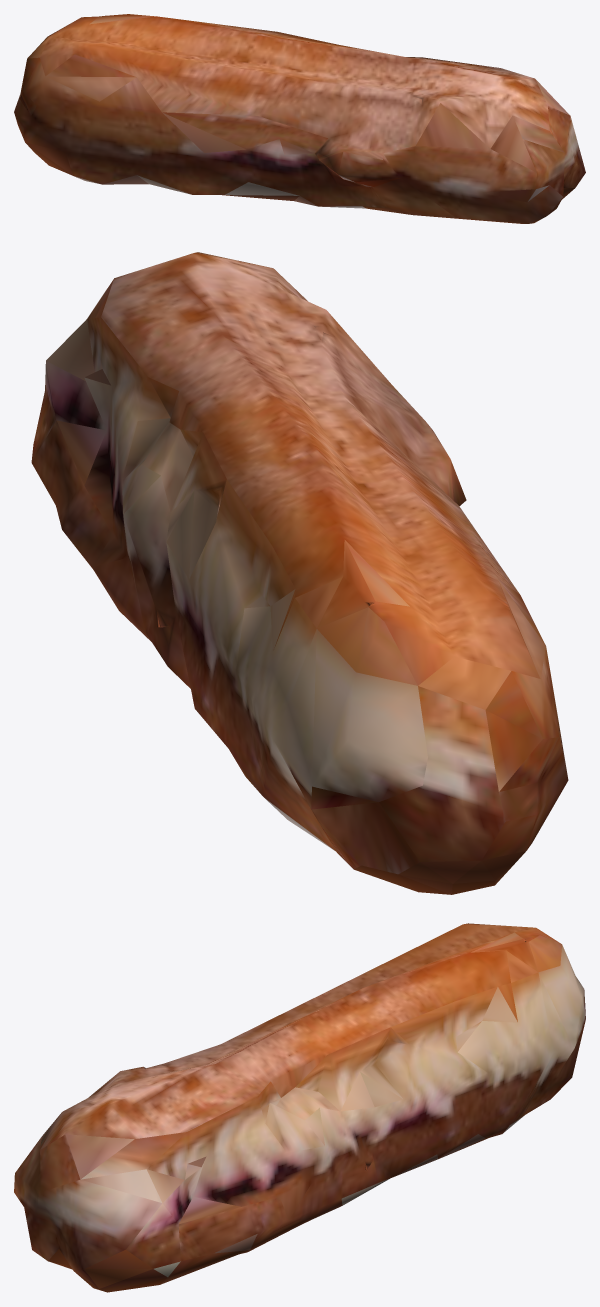
The model's file is eclaire_504.obj.
The picture shows the model from 3 angles, top to bottom: view 1: azimuth 30°, elevation 25°; view 2: azimuth 150°, elevation 25°; view 3: azimuth 270°, elevation 25°; orthographic projection. The views are drawn at different scales.
Bounding box in the file's own units: 93.88 × 31.68 × 91.11.
1 material, 1 textured.
